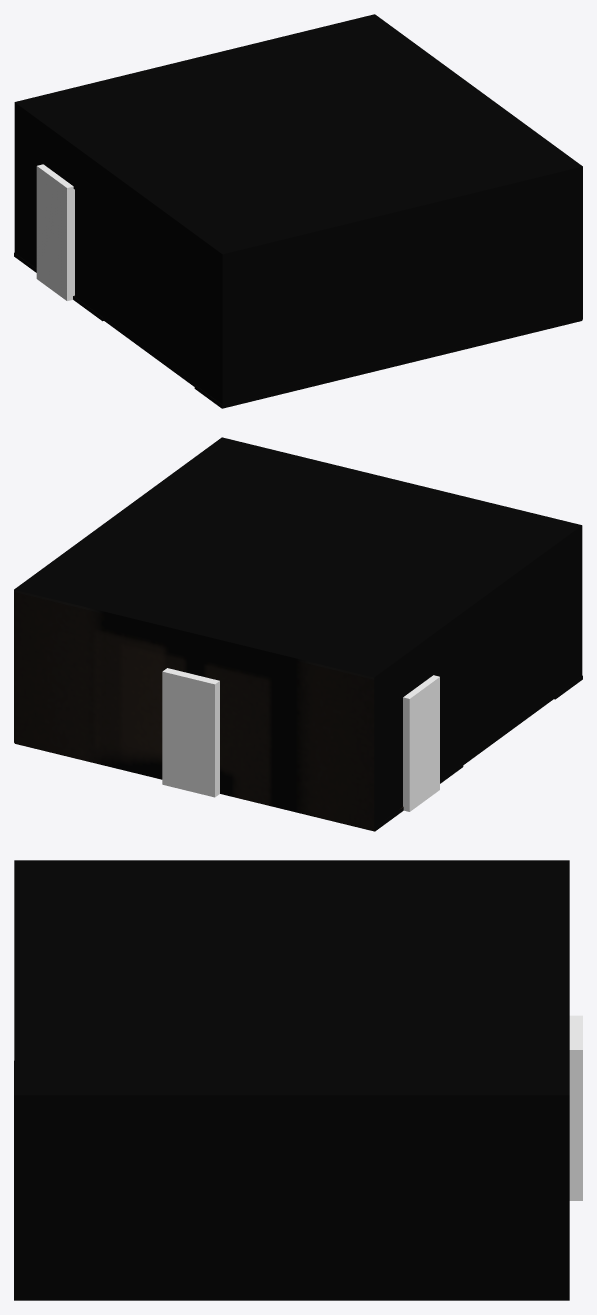
Rendered from room_1wcorridor_engine.obj.
3 renders of one model, top to bottom at view 1: azimuth 30°, elevation 25°; view 2: azimuth 150°, elevation 25°; view 3: azimuth 270°, elevation 25°, orthographic. The views are drawn at different scales.
Parts seen in each view (by area): view 1: Rectangle041, celling_1W, PH_DOOR_1W_loungeL, Rectangle042; view 2: Rectangle041, celling_1W, PH_DOOR_1W_lobbyL, PH_DOOR_1W_loungeL, Rectangle042; view 3: celling_1W, Rectangle041, PH_DOOR_1W_lobbyL, Rectangle042.
Boxes of the visible parts, bbox=[...] form: Rectangle041: bbox=[14, 105, 582, 404]; celling_1W: bbox=[14, 14, 582, 257]; PH_DOOR_1W_loungeL: bbox=[36, 164, 74, 300]; Rectangle042: bbox=[14, 252, 582, 408]; Rectangle041: bbox=[14, 528, 582, 830]; celling_1W: bbox=[14, 437, 582, 679]; PH_DOOR_1W_lobbyL: bbox=[162, 668, 219, 797]; PH_DOOR_1W_loungeL: bbox=[403, 675, 439, 811]; Rectangle042: bbox=[14, 675, 582, 831]; celling_1W: bbox=[14, 860, 569, 1100]; Rectangle041: bbox=[14, 1098, 569, 1299]; PH_DOOR_1W_lobbyL: bbox=[569, 1015, 582, 1200]; Rectangle042: bbox=[14, 1061, 569, 1300].
Size of the model in its own units: 102 by 41.87 by 102.
